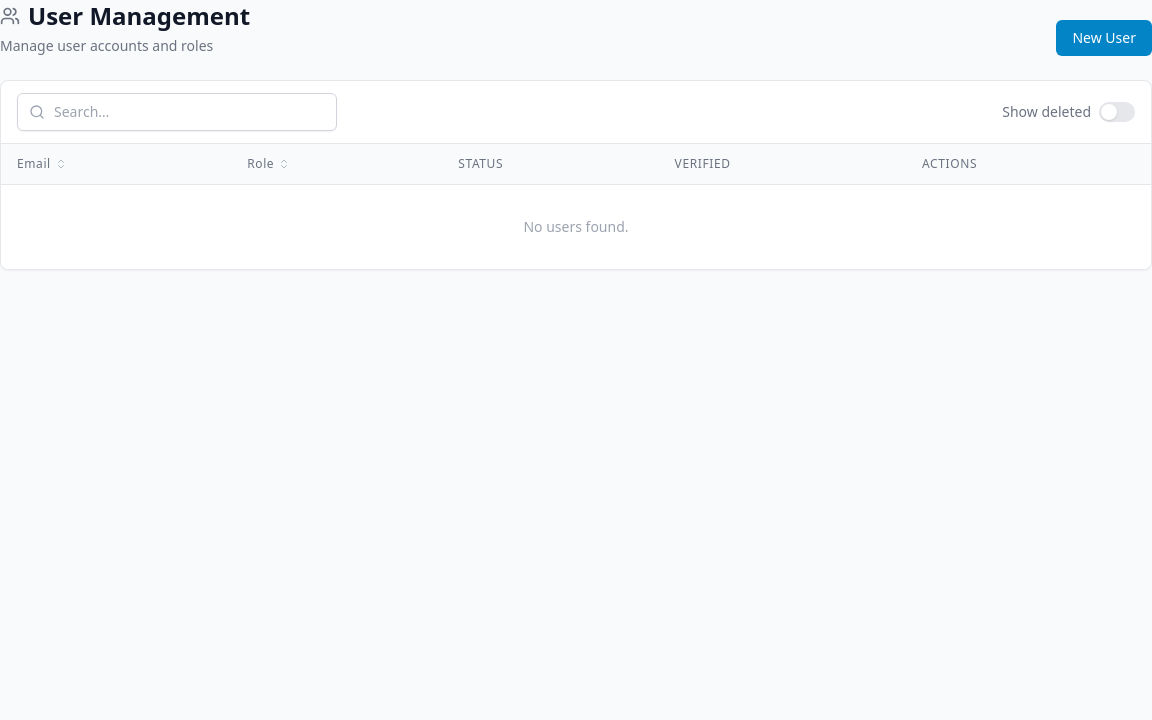
Scenario: Users admin page › "New User" button opens create modal
Step 1. Click the button "New User" → (1104, 38), box x1=1056 y1=20 x2=1151 y2=56
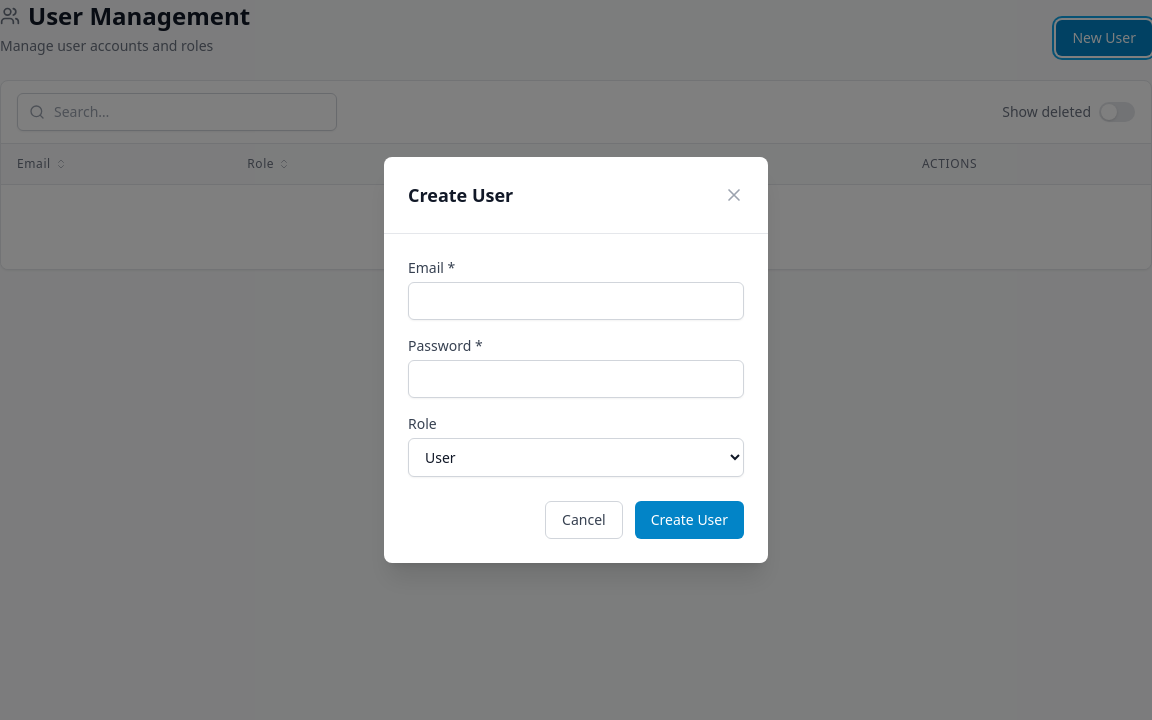
Check: the heading "Create User" is shown, box x1=408 y1=181 x2=513 y2=209
